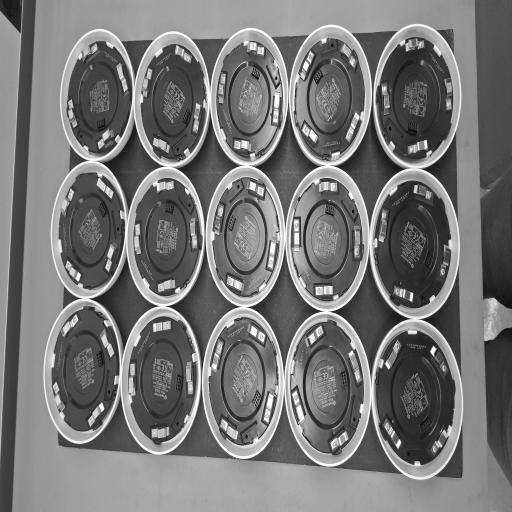konnektor: (252, 389, 262, 409), (420, 416, 431, 434), (424, 250, 434, 268), (314, 68, 324, 84), (182, 108, 191, 125), (340, 371, 348, 390), (174, 374, 182, 392), (324, 204, 335, 217), (228, 214, 236, 231), (407, 122, 418, 134), (251, 67, 261, 80), (98, 202, 106, 218), (164, 203, 174, 214), (97, 351, 103, 366), (97, 118, 105, 129)
yayli: (382, 415, 401, 450), (430, 345, 449, 378), (430, 425, 450, 456), (384, 336, 402, 370), (291, 386, 306, 426), (261, 389, 277, 426), (246, 320, 267, 346), (345, 110, 361, 144), (210, 336, 225, 372), (219, 415, 239, 442), (300, 120, 318, 149), (348, 349, 362, 386), (87, 401, 105, 429), (306, 323, 327, 347), (299, 51, 315, 82), (329, 429, 349, 453), (100, 328, 115, 359), (104, 242, 118, 274), (60, 188, 74, 220), (413, 183, 434, 204), (246, 178, 266, 200), (225, 273, 245, 295), (52, 381, 66, 412), (96, 177, 114, 201), (97, 127, 115, 151), (61, 313, 78, 338), (266, 237, 278, 272), (439, 245, 451, 280), (340, 43, 356, 69), (378, 208, 389, 244), (65, 260, 81, 284), (213, 203, 225, 235), (116, 63, 128, 95), (141, 68, 153, 99), (174, 45, 192, 65), (394, 285, 414, 303), (80, 43, 98, 63), (407, 140, 428, 157), (152, 135, 170, 154), (192, 103, 203, 134), (353, 224, 362, 260), (381, 82, 390, 116), (444, 78, 453, 112), (272, 92, 281, 126), (292, 216, 301, 250), (233, 138, 252, 154), (67, 99, 77, 129), (218, 71, 227, 104), (158, 278, 176, 294), (247, 40, 265, 56), (406, 38, 425, 53), (318, 180, 338, 194), (128, 363, 136, 397), (156, 179, 174, 194), (314, 284, 333, 298), (151, 426, 170, 440), (190, 218, 198, 250), (134, 223, 142, 255), (187, 361, 194, 396), (153, 319, 171, 332), (248, 180, 257, 194), (52, 381, 60, 395), (306, 51, 314, 64), (67, 187, 74, 201), (145, 68, 153, 80), (97, 138, 105, 150), (227, 276, 234, 288), (134, 223, 140, 235), (233, 140, 240, 150), (130, 363, 135, 376), (153, 137, 159, 147), (68, 100, 74, 110), (158, 282, 164, 292)
